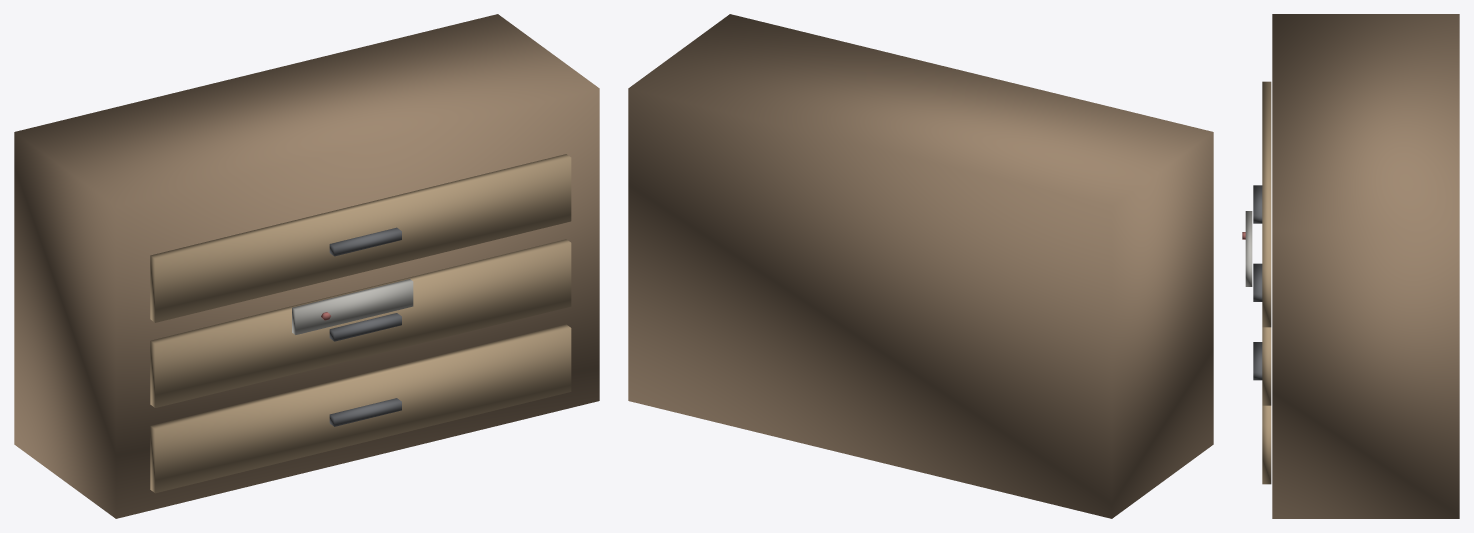
File: motel_dresser__wide.glb
3 views of the same model, side by side, from view 1: azimuth 30°, elevation 25°; view 2: azimuth 150°, elevation 25°; view 3: azimuth 270°, elevation 25° (orthographic). The views are drawn at different scales.
Visible parts, largest first — view 1: world; view 2: world; view 3: world.
Boxes of the visible parts, <box> form: world: <box>14,14,599,518</box>; world: <box>628,14,1213,518</box>; world: <box>1242,14,1459,518</box>.
Bounding box in the file's own units: 1.43 × 0.88 × 0.6035.
